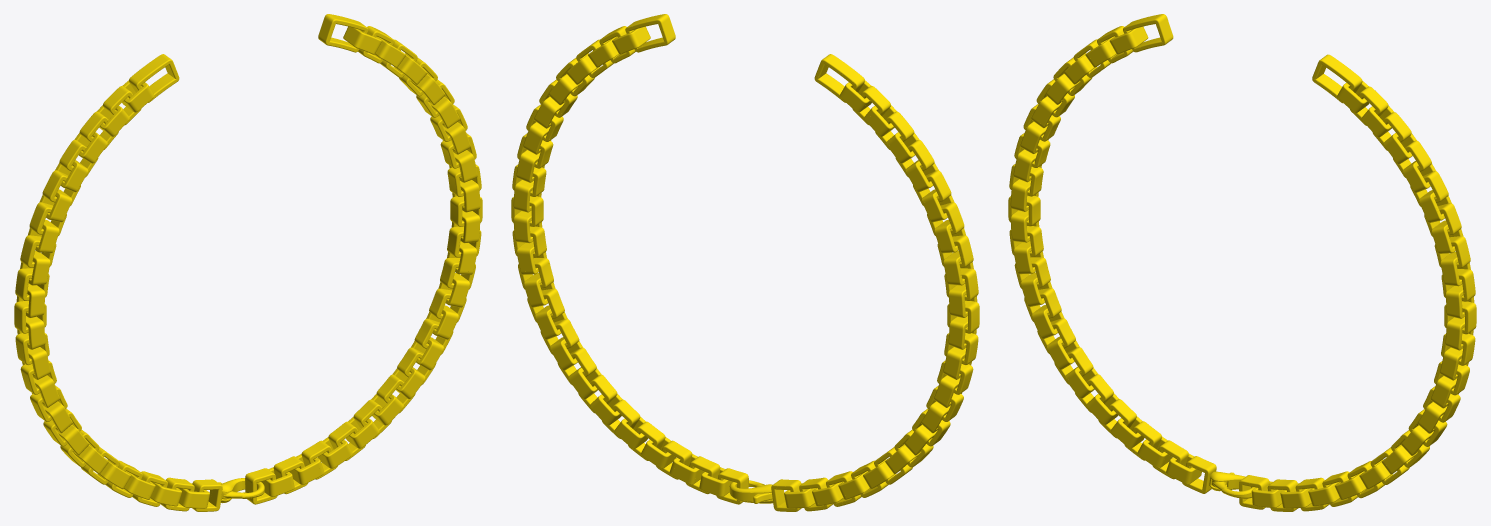
File: bracelet-chain.glb
3 renders of one model, left to right at view 1: azimuth 30°, elevation 25°; view 2: azimuth 150°, elevation 25°; view 3: azimuth 330°, elevation 25°, orthographic.
Bounding box in the file's own units: 0.0599 × 0.0579 × 0.00435.
